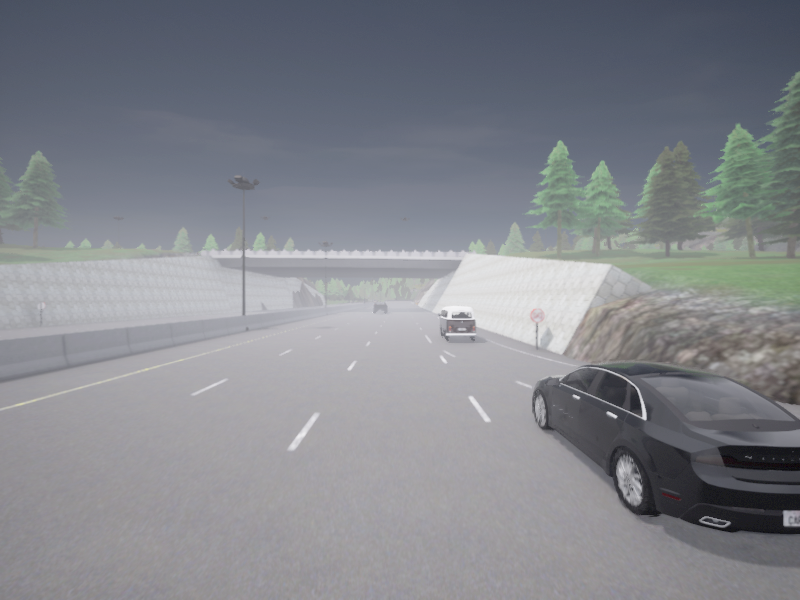vehicle: (533, 360, 799, 535), (438, 306, 476, 340), (373, 302, 387, 312)
